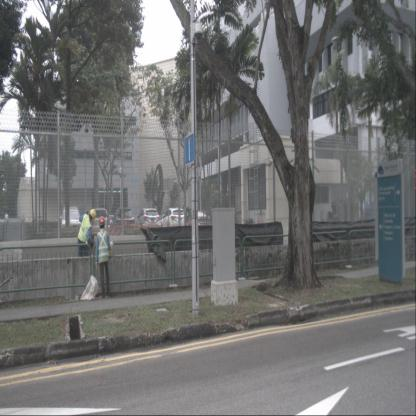vehicle-car: (84, 208, 110, 236), (161, 208, 186, 232), (61, 207, 81, 237), (136, 209, 161, 233), (113, 208, 135, 235), (187, 212, 210, 228)
